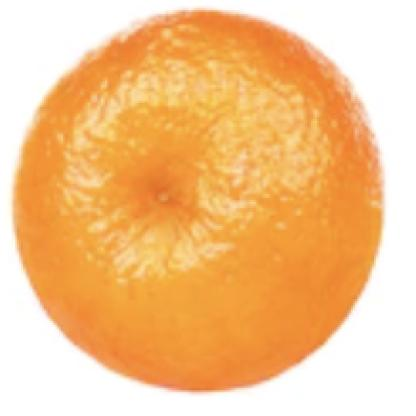fresh: (13, 14, 382, 390)
